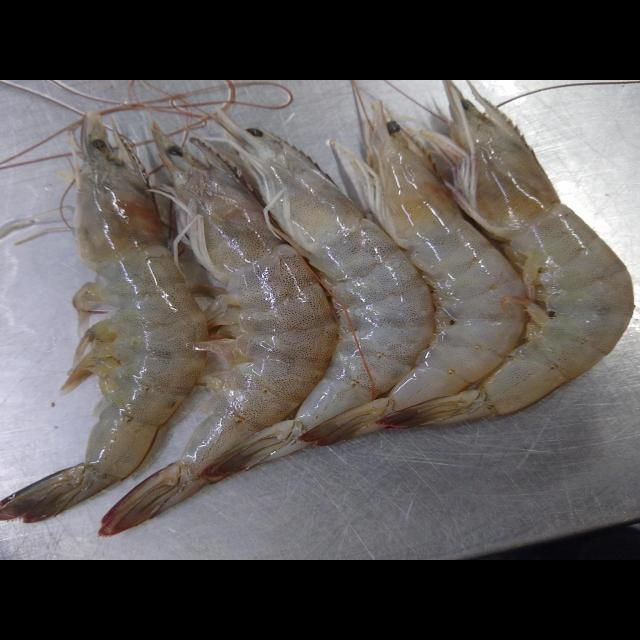shrimp: (102, 125, 338, 533), (0, 113, 207, 524), (444, 80, 634, 422), (231, 124, 434, 434), (365, 102, 527, 412)
